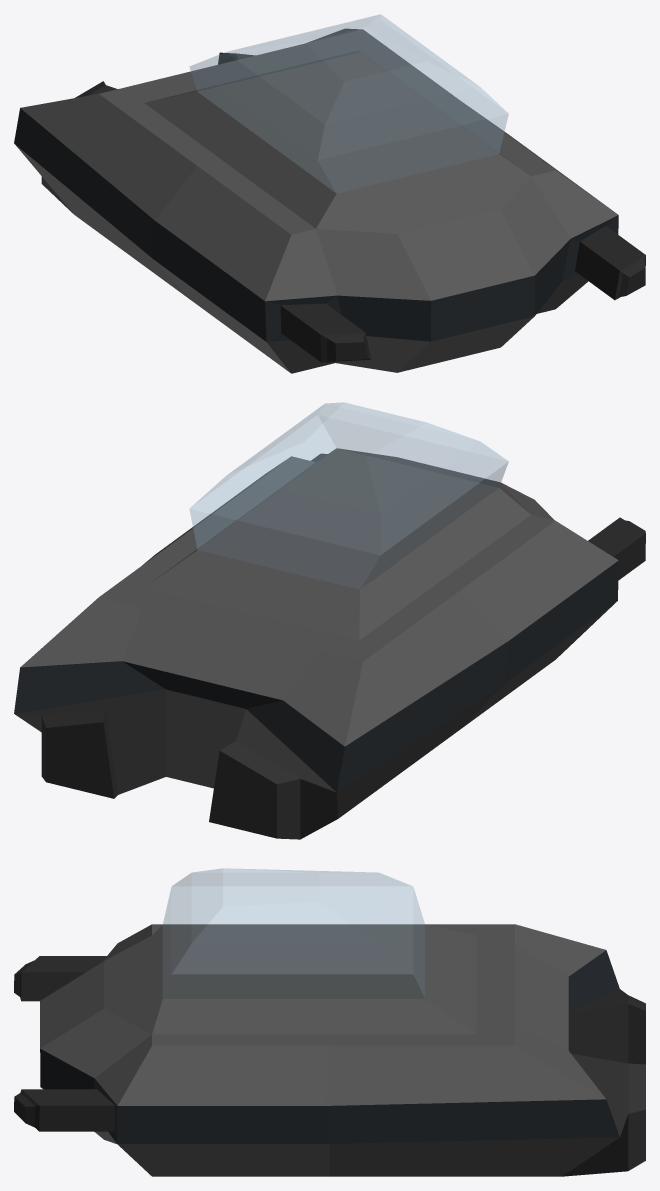
The model's file is ShipMan69.fbx.
The picture shows the model from 3 angles, top to bottom: view 1: azimuth 30°, elevation 25°; view 2: azimuth 150°, elevation 25°; view 3: azimuth 270°, elevation 25°; orthographic projection. The views are drawn at different scales.
Visible parts, largest first — view 1: Ship_Boi; view 2: Ship_Boi; view 3: Ship_Boi.
Part boxes in pixels (x1=…): Ship_Boi: x1=14, y1=14, x2=645, y2=373; Ship_Boi: x1=14, y1=402, x2=645, y2=839; Ship_Boi: x1=14, y1=868, x2=645, y2=1176.
Bounding box in the file's own units: 150 × 98.06 × 246.
